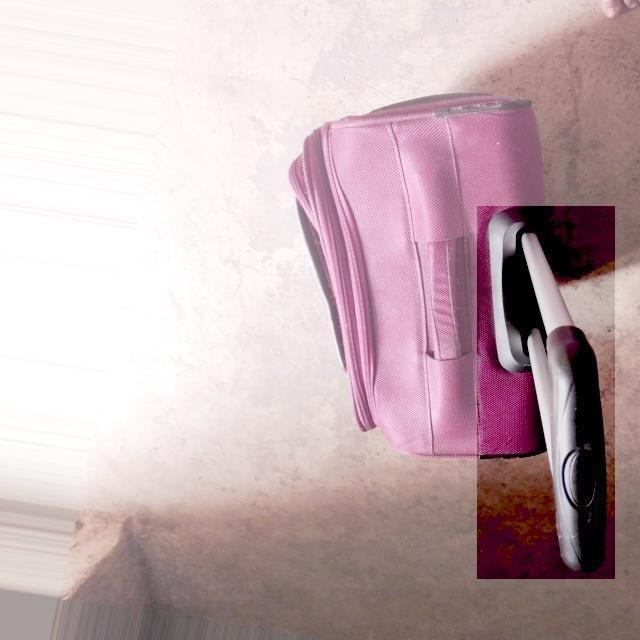Suitcase: (281, 90, 622, 583)
